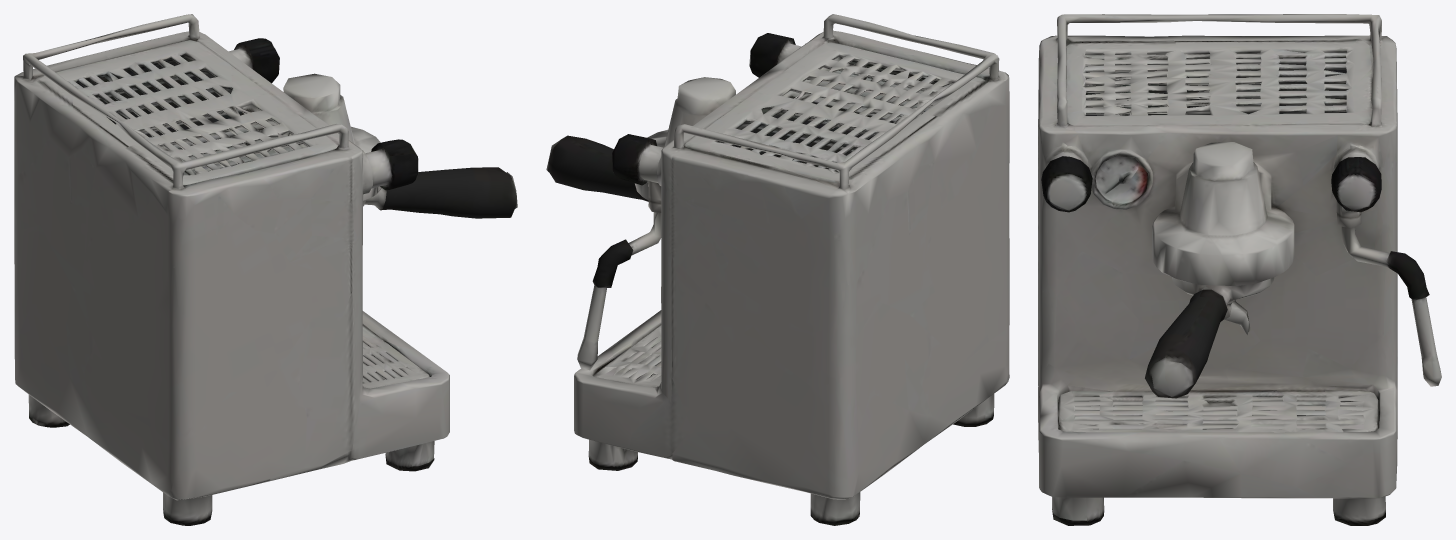
File: SM_Kitchen_EspressoMachine.glb
3 renders of one model, left to right at view 1: azimuth 30°, elevation 25°; view 2: azimuth 150°, elevation 25°; view 3: azimuth 270°, elevation 25°, orthographic. The views are drawn at different scales.
Parts seen in each view (by area): view 1: tripo_node_748baf78-54b9-45db-bfd5-473997d50f70; view 2: tripo_node_748baf78-54b9-45db-bfd5-473997d50f70; view 3: tripo_node_748baf78-54b9-45db-bfd5-473997d50f70.
Boxes of the visible parts, x1,y1,x2,y2 form: tripo_node_748baf78-54b9-45db-bfd5-473997d50f70: (14,14,517,525); tripo_node_748baf78-54b9-45db-bfd5-473997d50f70: (546,14,1009,525); tripo_node_748baf78-54b9-45db-bfd5-473997d50f70: (1038,14,1441,525).
Size of the model in its own units: 1 by 0.8695 by 0.8386.
Materials: 1 (1 with a texture image).
